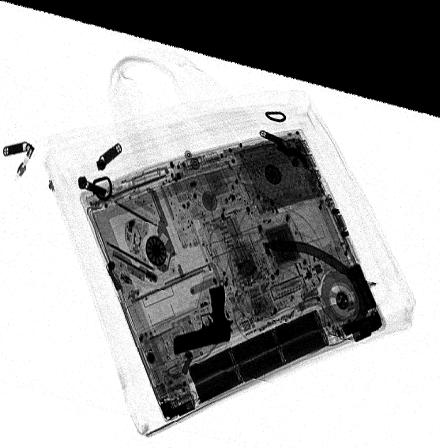Gun: (175, 273, 231, 345)
